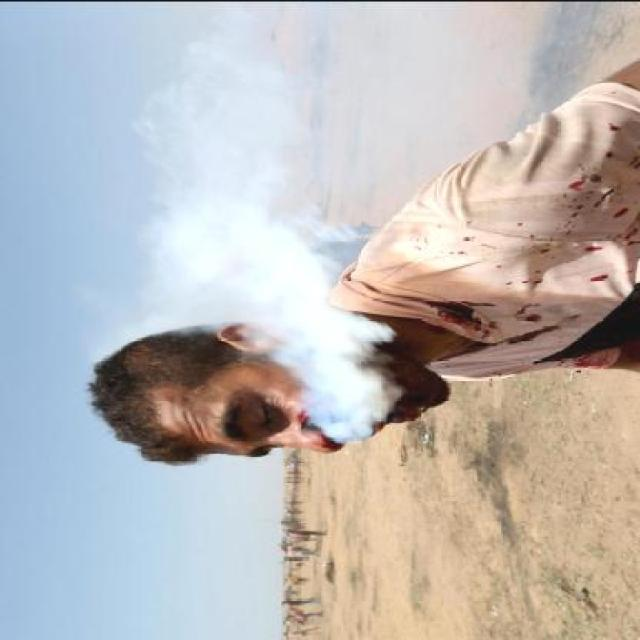Smoke: (124, 10, 406, 441)
